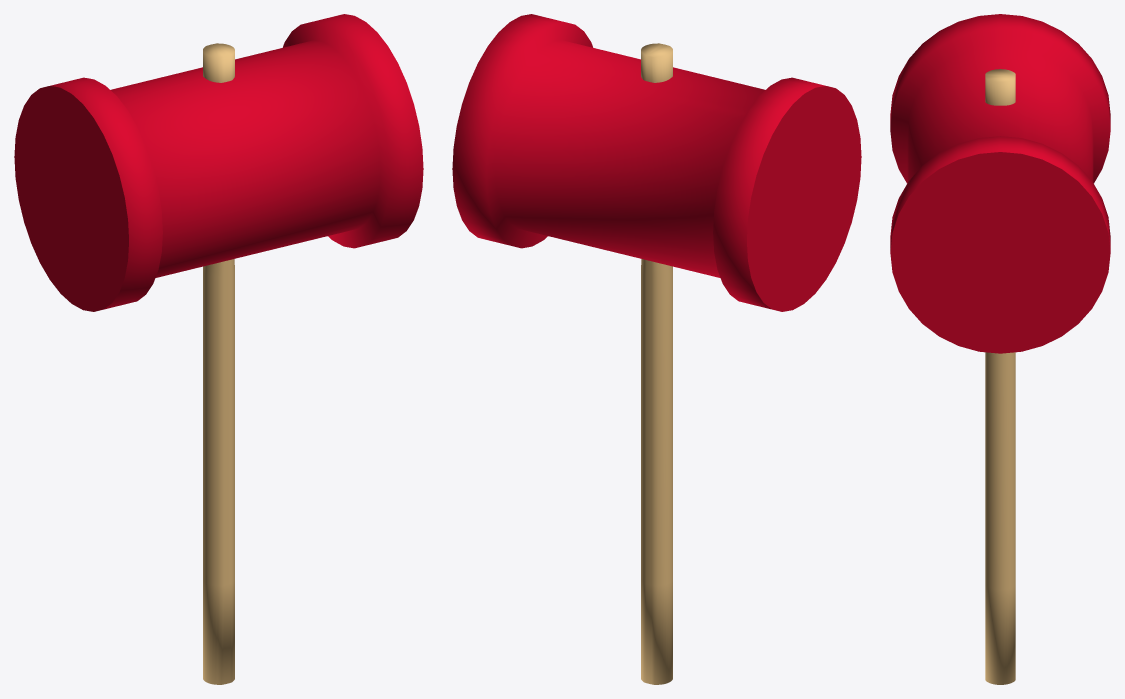
File: Gamejam_Player_Hummer_Red.fbx
The picture shows the model from 3 angles, left to right: view 1: azimuth 30°, elevation 25°; view 2: azimuth 150°, elevation 25°; view 3: azimuth 270°, elevation 25°; orthographic projection. The views are drawn at different scales.
Visible parts, largest first — view 1: 円柱, hummer_e; view 2: 円柱, hummer_e; view 3: 円柱, hummer_e.
Boxes of the visible parts, left/top/right/bottom form: 円柱: left=14, top=14, right=423, bottom=311; hummer_e: left=203, top=43, right=234, bottom=684; 円柱: left=452, top=14, right=861, bottom=311; hummer_e: left=641, top=43, right=672, bottom=684; 円柱: left=890, top=14, right=1110, bottom=353; hummer_e: left=985, top=69, right=1015, bottom=684.
Bounding box in the file's own units: 200 × 407 × 135.
